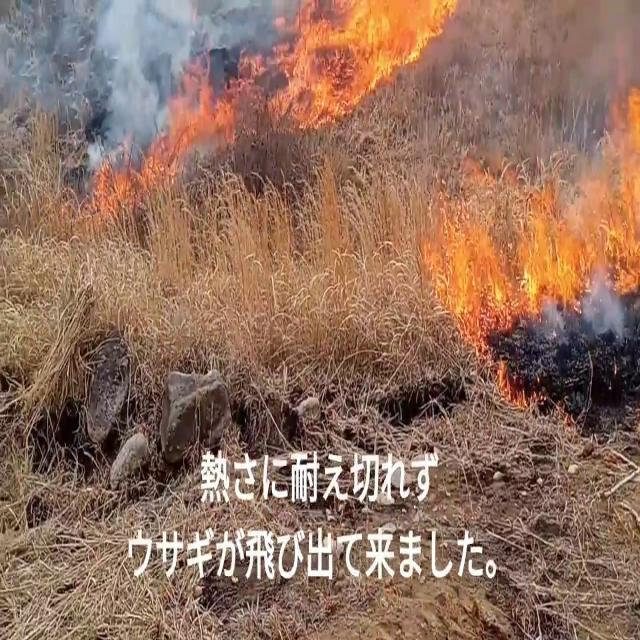Fire: (415, 46, 640, 365), (268, 0, 467, 121), (150, 47, 234, 181)
Smoke: (0, 0, 226, 184), (82, 0, 229, 189)
